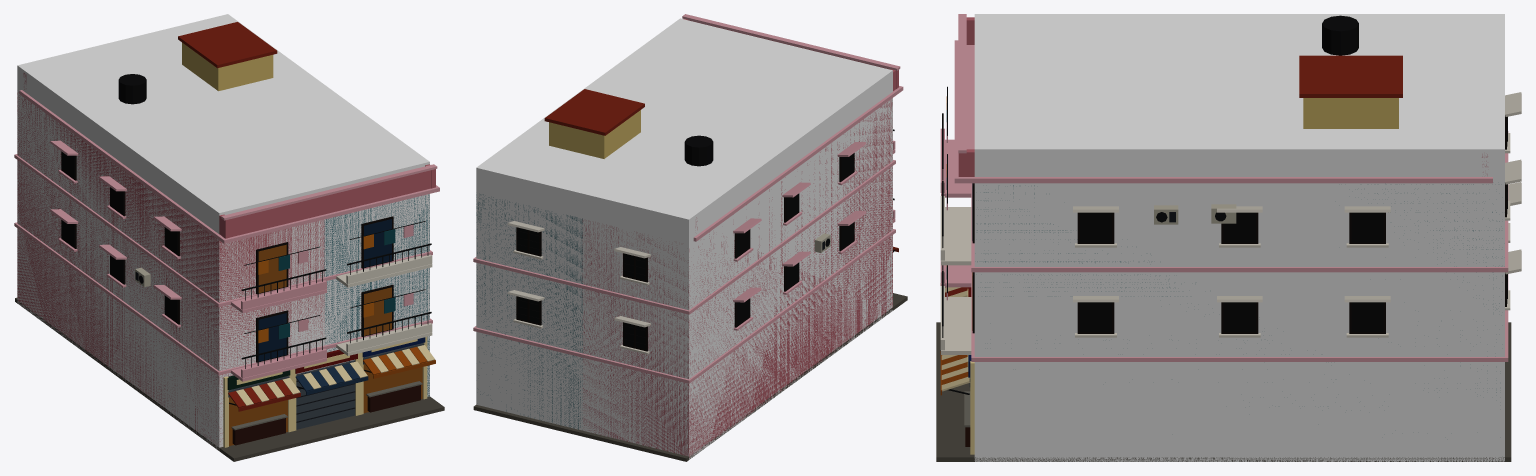
File: K11_canal_mixed_row.glb
3 views of the same model, side by side, from view 1: azimuth 30°, elevation 25°; view 2: azimuth 150°, elevation 25°; view 3: azimuth 270°, elevation 25° (orthographic). The views are drawn at different scales.
Visible parts, largest first — view 1: COL_Main, LOD0; view 2: COL_Main, LOD0; view 3: COL_Main, LOD0.
Boxes of the visible parts, bbox=[...] form: COL_Main: bbox=[17, 14, 429, 450]; LOD0: bbox=[14, 22, 444, 461]; COL_Main: bbox=[476, 18, 892, 459]; LOD0: bbox=[473, 14, 907, 461]; COL_Main: bbox=[974, 14, 1504, 461]; LOD0: bbox=[936, 14, 1521, 461].
Size of what is drawn, in the model's own units: 11.05 by 12.06 by 18.32.
